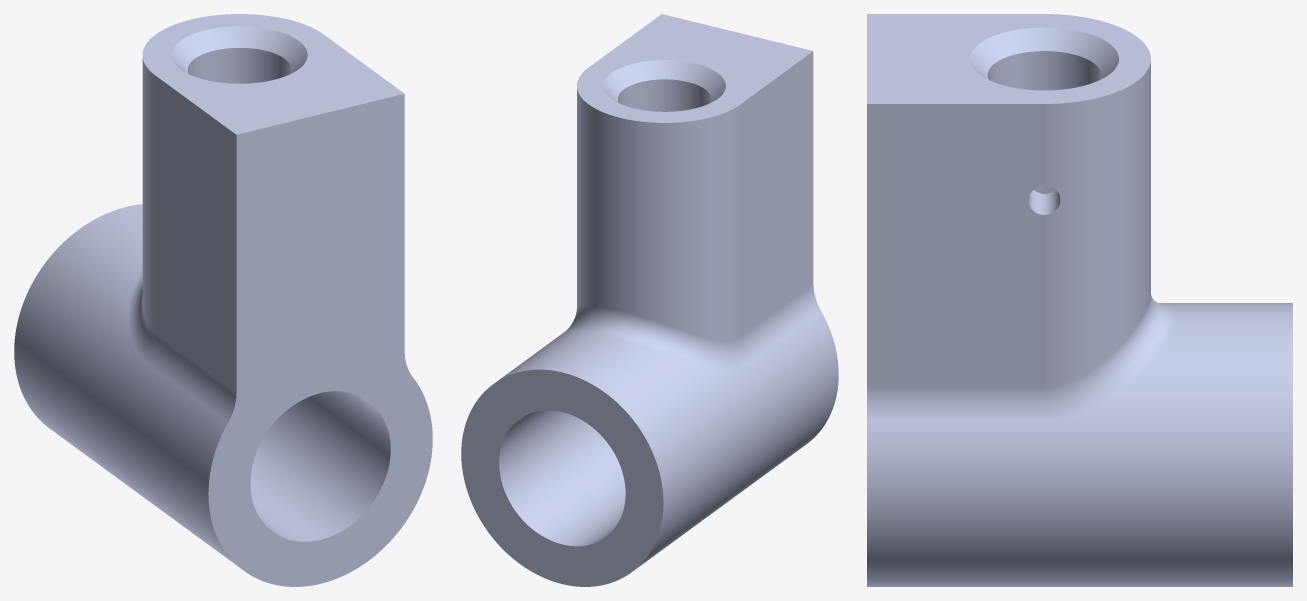
3 views of the same model, side by side, from view 1: azimuth 30°, elevation 25°; view 2: azimuth 150°, elevation 25°; view 3: azimuth 270°, elevation 25° (orthographic). The views are drawn at different scales.
Visible parts, largest first — view 1: M12 螺纹孔1; view 2: M12 螺纹孔1; view 3: M12 螺纹孔1.
Part boxes in pixels (x1,y1,x2,y2): M12 螺纹孔1: (14,14,432,586); M12 螺纹孔1: (461,14,838,586); M12 螺纹孔1: (867,14,1292,586).
Size of the model in its own units: 3.15 by 6.3 by 4.72.
